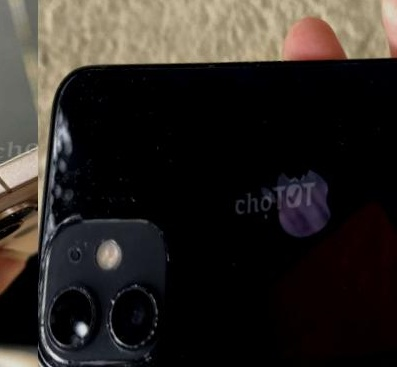scratch: (38, 151, 204, 367), (48, 54, 173, 150), (318, 339, 397, 367)
